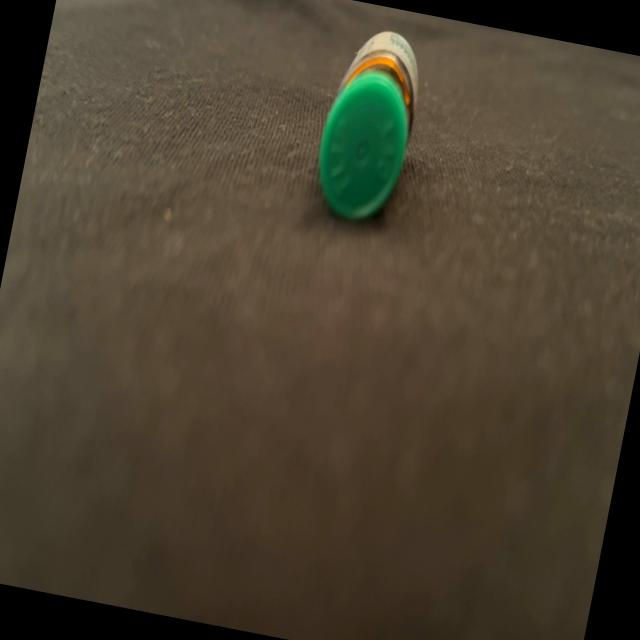midazolm: (308, 25, 428, 226)
